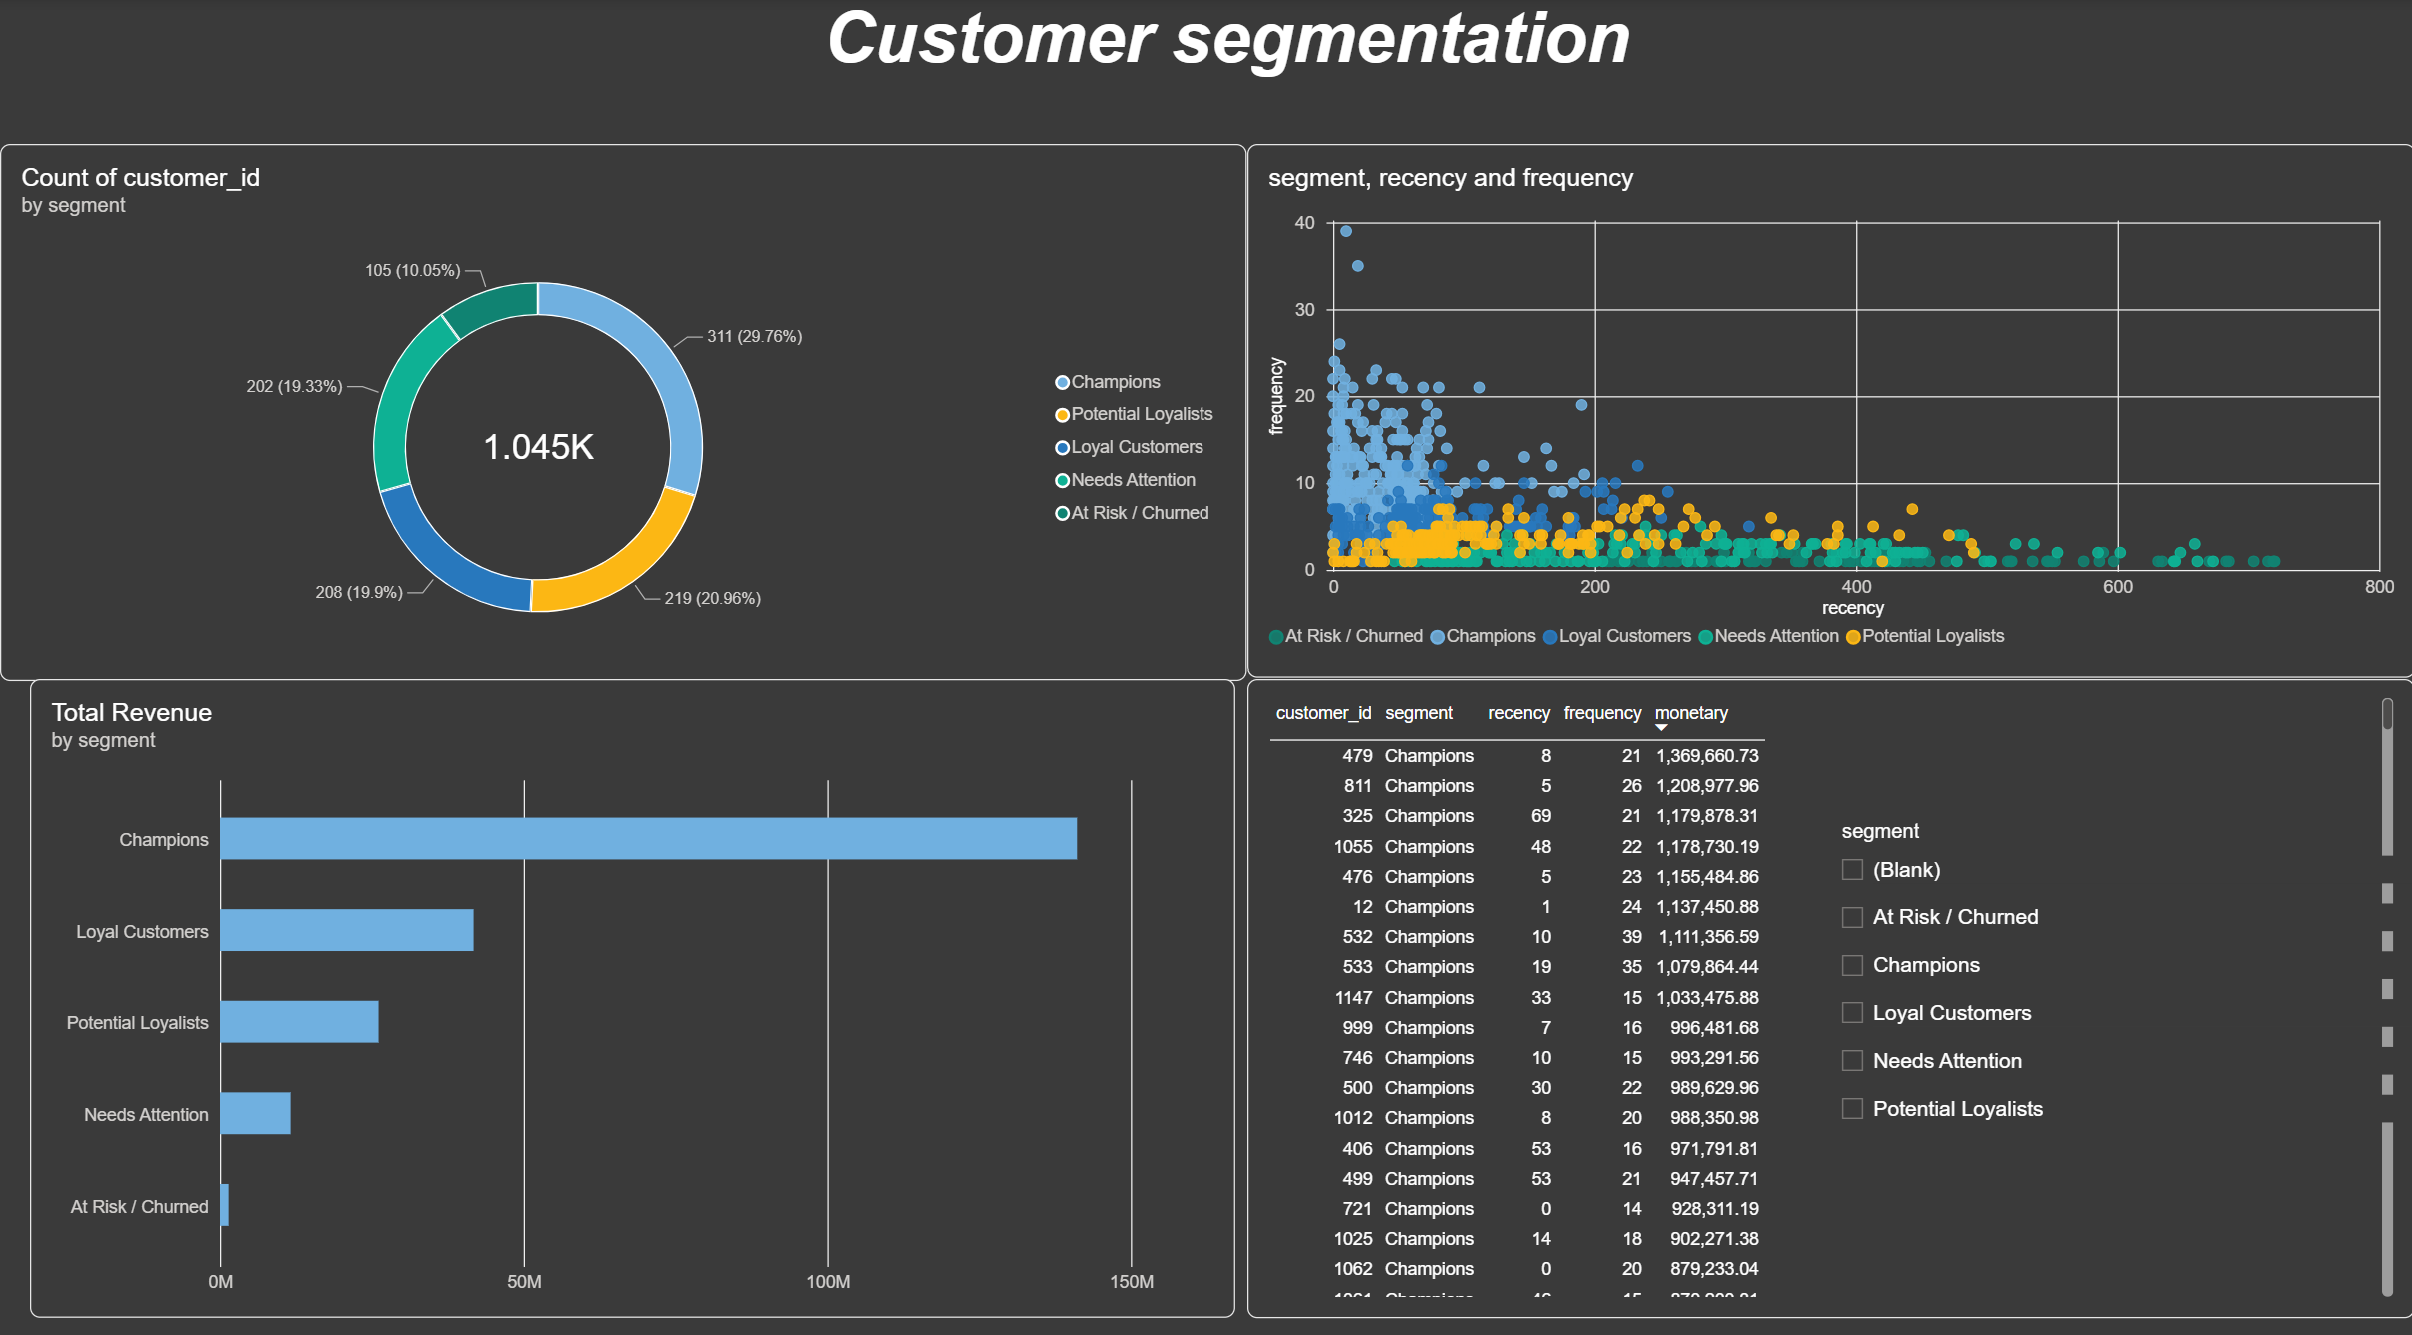

What the dashboard file says about the page in this screenshot:
{"tool":"powerbi","page":{"name":"Customer_segmentation","canvas":[1920,1080],"ordinal":1},"visuals":[{"type":"donutChart","fields":{"Category":["customer_rfm.segment"],"Y":["CountNonNull(customer_rfm.customer_id)"]},"box":[0,116.4,991.2,426],"z":0},{"type":"clusteredBarChart","fields":{"Category":["customer_rfm.segment"],"Y":["fact_sales.Total Revenue"]},"box":[23.8,541.2,958.4,507.8],"z":1000},{"type":"scatterChart","fields":{"Series":["customer_rfm.segment"],"X":["customer_rfm.recency"],"Y":["customer_rfm.frequency"]},"box":[991.2,116.4,928.8,423.2],"z":2000},{"type":"tableEx","fields":{"Values":["customer_rfm.customer_id","customer_rfm.segment","customer_rfm.recency","customer_rfm.frequency","customer_rfm.monetary"]},"box":[992,541,928,508],"z":3000},{"type":"slicer","fields":{"Values":["customer_rfm.segment"]},"box":[1456.7,653.2,462.5,286.1],"z":4000},{"type":"textbox","box":[99.4,0,1749.6,116.4],"z":5000}]}

Visuals, with their boxes in screenshot pixels (x1, y1, x2, y2), scaled from the page's 1920x1080 canvas onto the 2412x1335 screenshot:
donutChart - customer_rfm.segment x CountNonNull(customer_rfm.customer_id): [0,144,1245,670]
clusteredBarChart - customer_rfm.segment x fact_sales.Total Revenue: [30,669,1234,1297]
scatterChart - customer_rfm.segment x customer_rfm.recency: [1245,144,2411,667]
tableEx - customer_rfm.customer_id x customer_rfm.segment: [1246,669,2411,1297]
slicer - customer_rfm.segment: [1830,807,2411,1161]
textbox: [125,0,2323,144]
